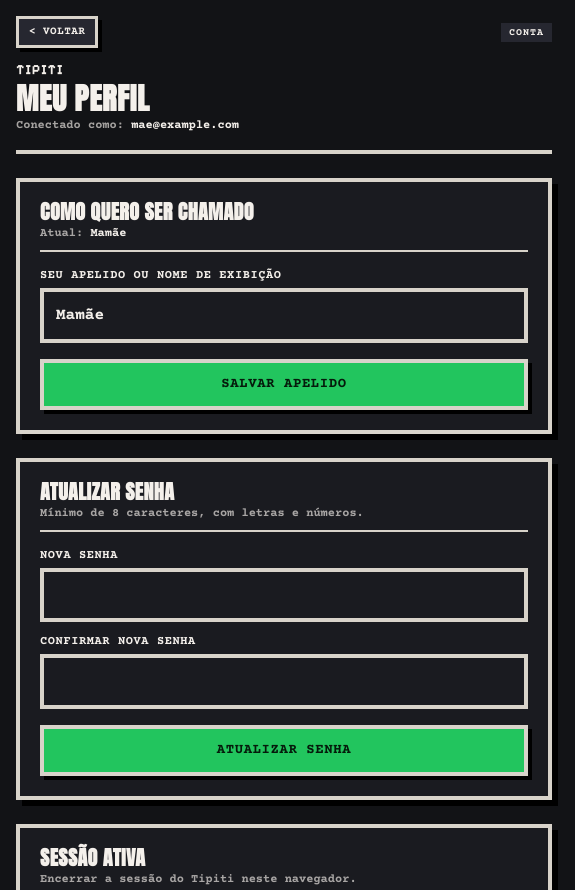
it: ProfilePage › updates preferred name successfully
Replace the text in the field labelled "Seu apelido ou nome de exibição" with "Mãe Querida": [284, 315] box [40,288,528,343]
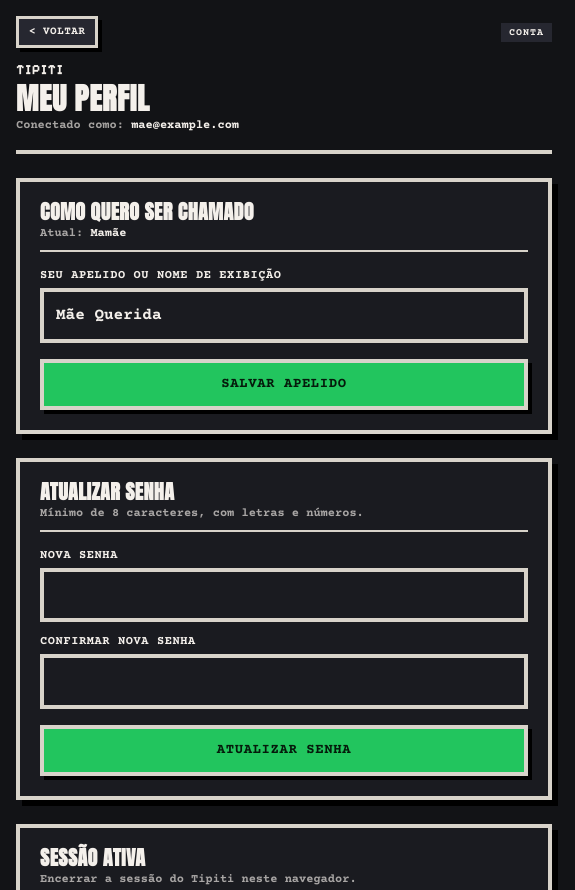
Click the button "Salvar apelido": [284, 384] box [40,359,528,410]
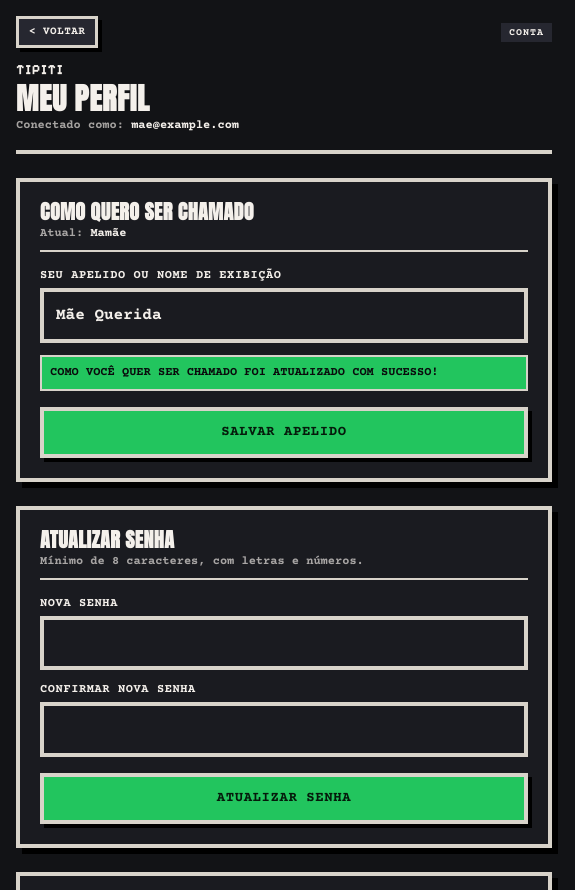
Now the text "Como você quer ser chamado foi atualizado com sucesso!" is shown, box [40,355,528,391]
